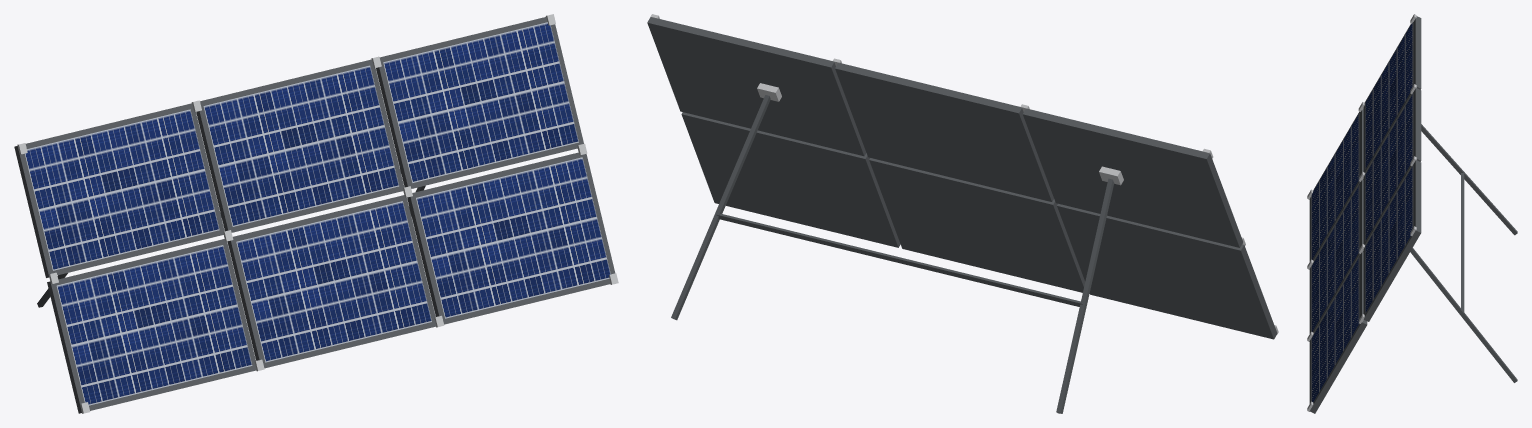
Rendered from solar_panel.glb.
The picture shows the model from 3 angles, left to right: view 1: azimuth 30°, elevation 25°; view 2: azimuth 150°, elevation 25°; view 3: azimuth 270°, elevation 25°; orthographic projection. The views are drawn at different scales.
Parts seen in each view (by area): view 1: SolarPanel; view 2: SolarPanel; view 3: SolarPanel.
Part boxes in pixels (x1,y1,x2,y2): SolarPanel: [14, 14, 618, 413]; SolarPanel: [647, 14, 1278, 413]; SolarPanel: [1307, 14, 1517, 413].
Bounding box in the file's own units: 1.8 × 0.7319 × 0.745.
3 materials, 1 textured.
